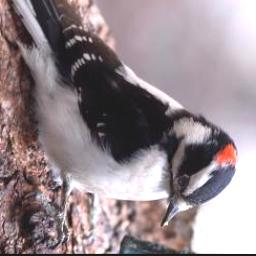Woodpecker: (3, 0, 243, 233)
